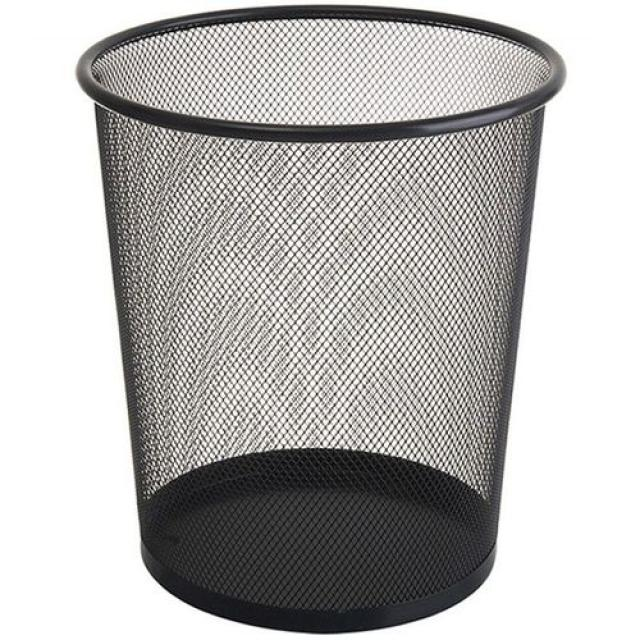dustbin: (71, 3, 569, 637)
